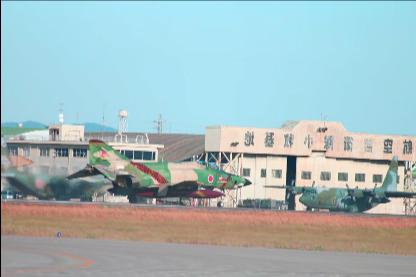Be200: (261, 154, 415, 214), (1, 132, 113, 200)
F35: (64, 138, 258, 206)
